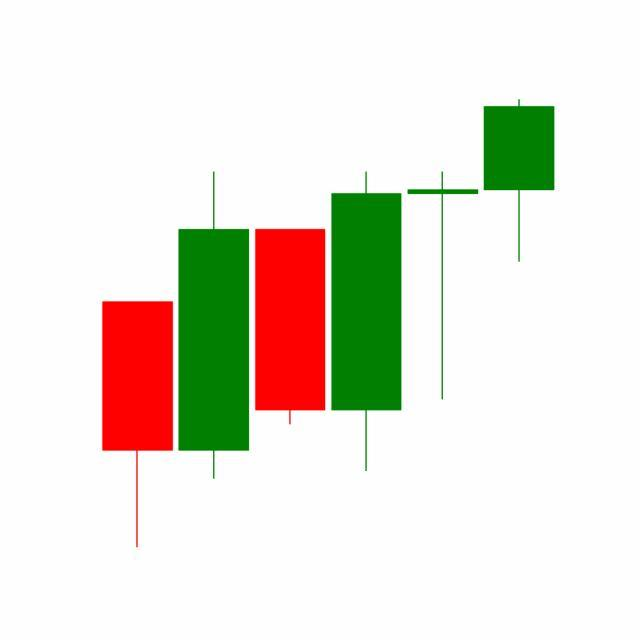Hanging Man: (404, 169, 482, 402)
